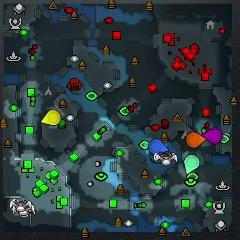p1: (148, 138, 169, 155)
p2: (184, 154, 199, 173)
p3: (204, 127, 223, 145)
p4: (41, 110, 61, 126)
p5: (187, 132, 204, 148)
